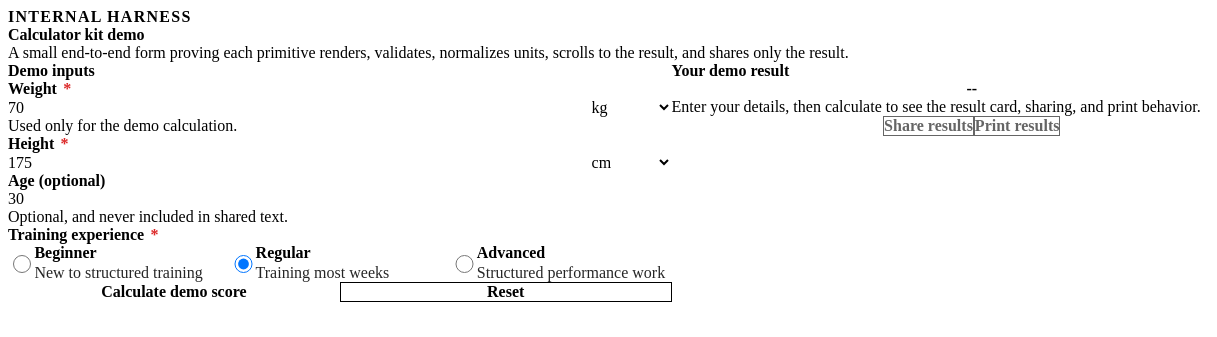
Test: CalculatorKitDemo › reports validation errors and marks the field invalid
Clear the number field named "weight" at (298, 108), box [8,98,588,117]
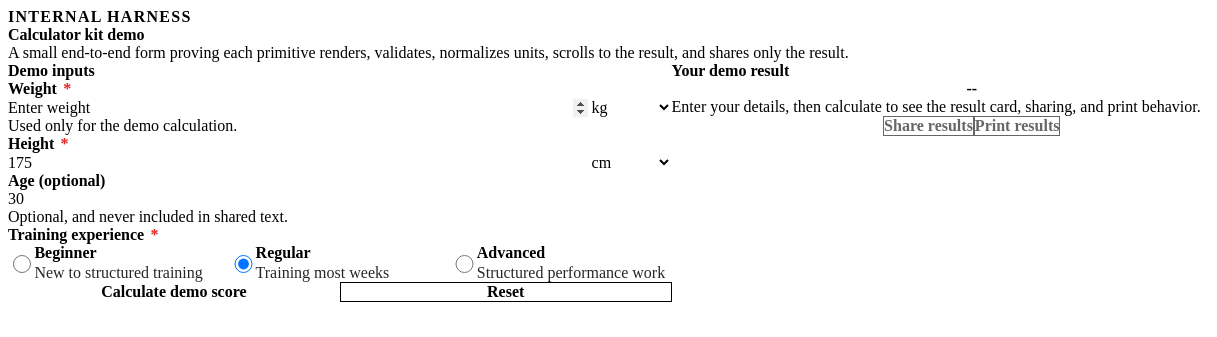
Click the button "Calculate demo score" at (174, 292), box [8,282,340,302]
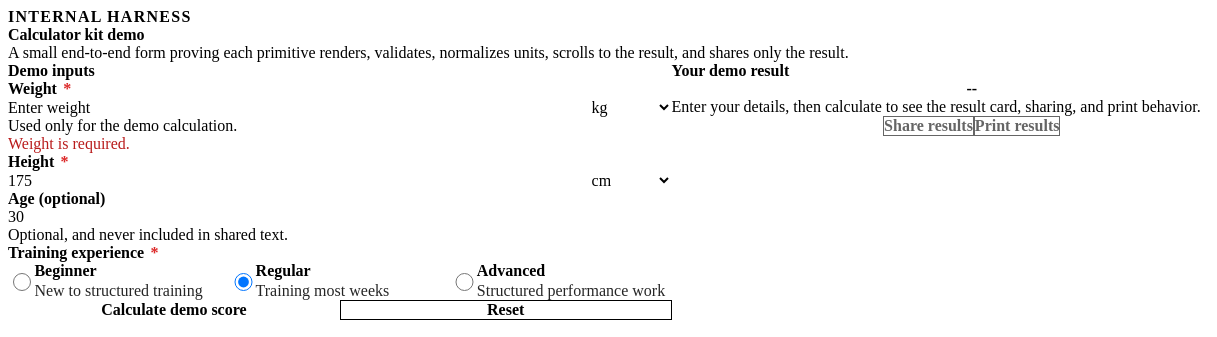
Check: the message reads "Weight is required.", box [8,135,130,152]
